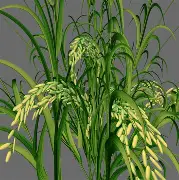crops: (0, 0, 175, 176)
